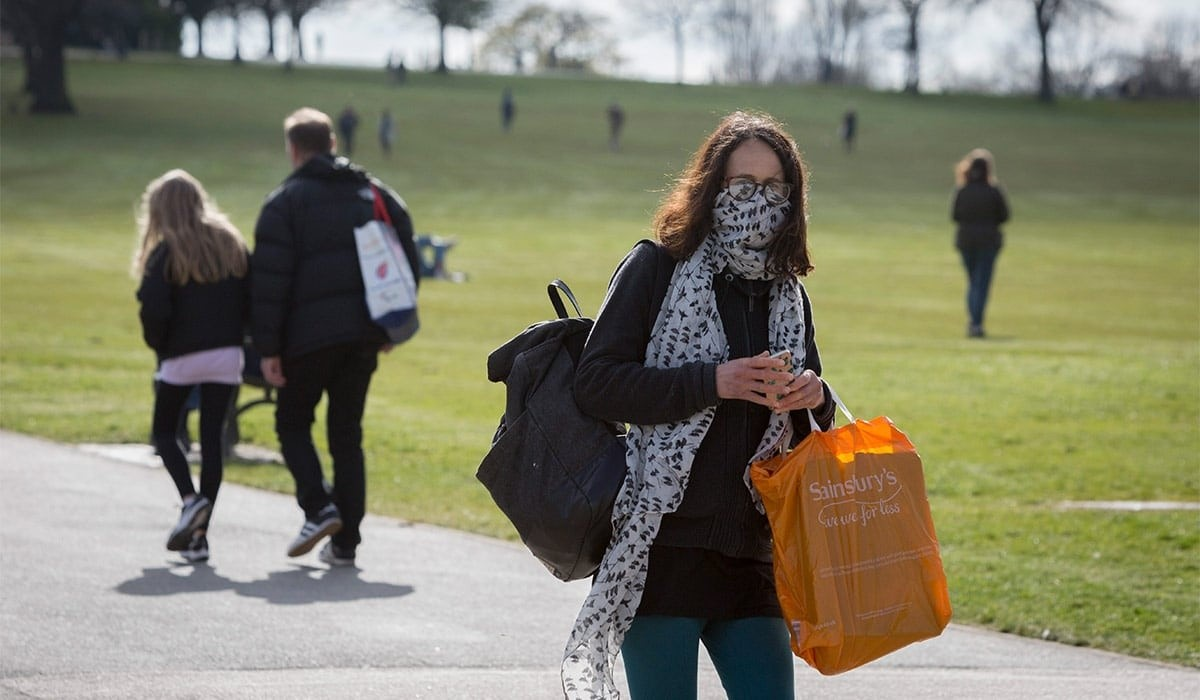face_with_mask: (693, 112, 802, 273)
